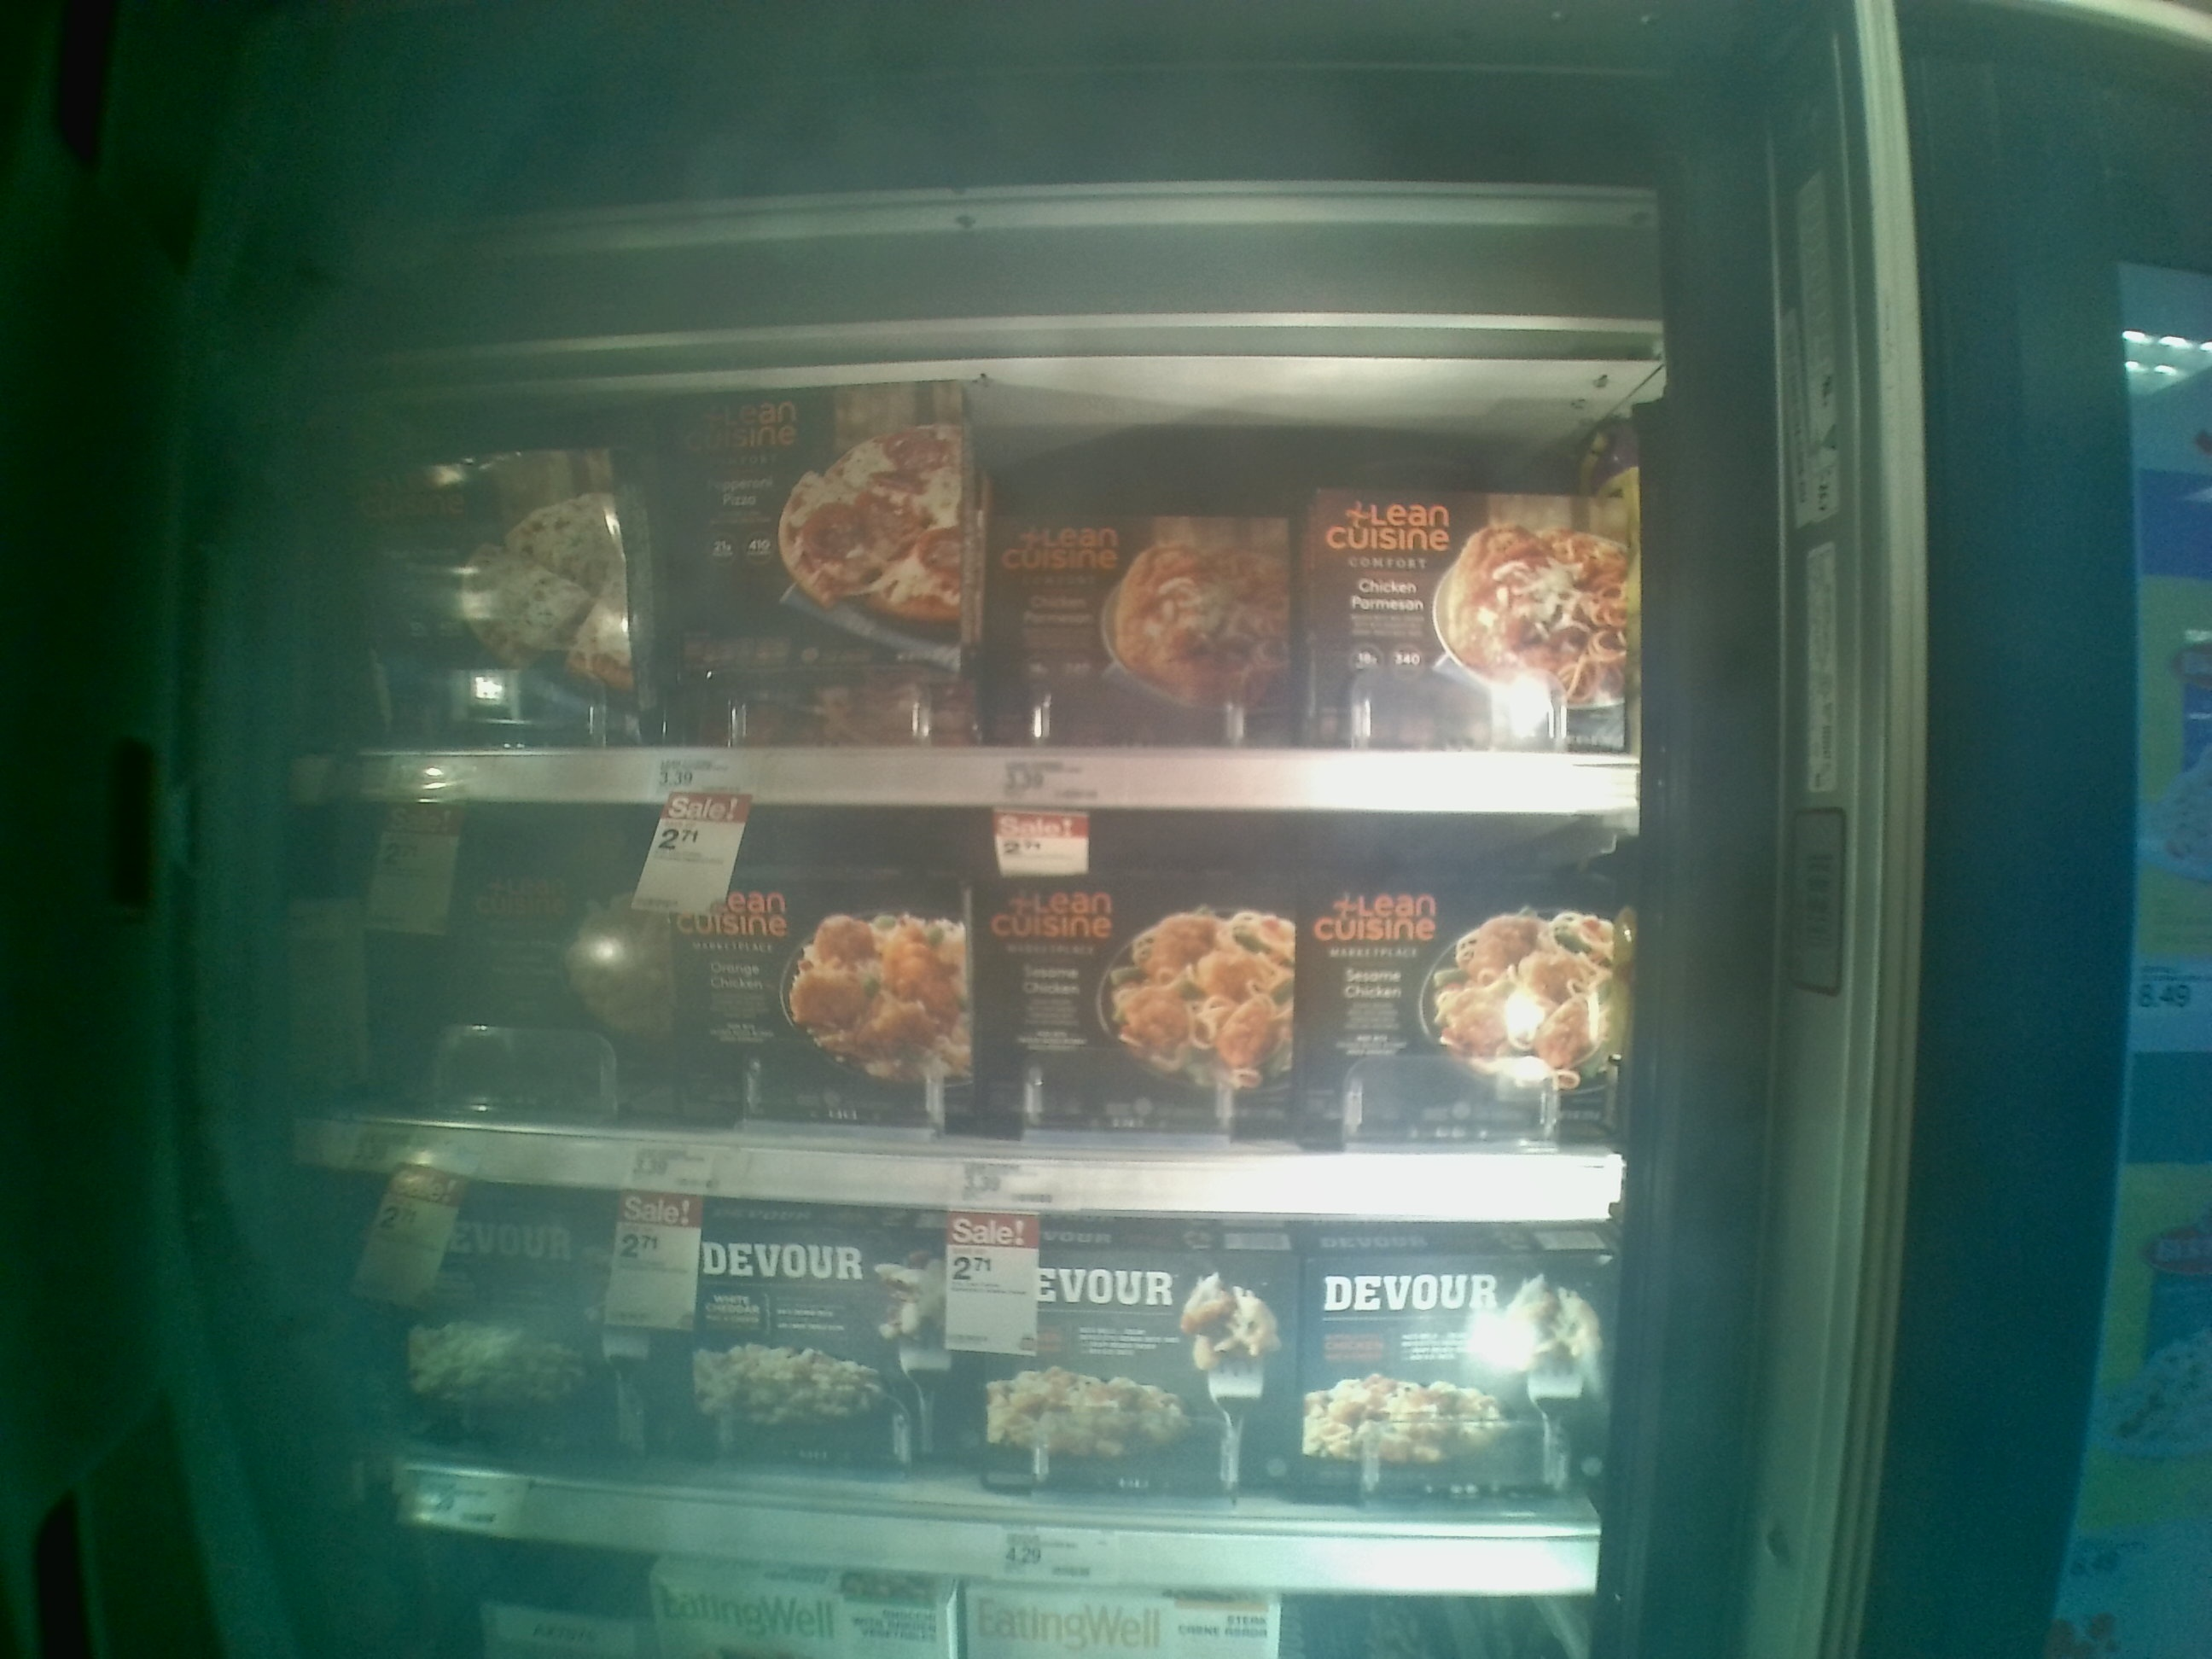shelf: (301, 382, 1651, 807), (308, 812, 1635, 1223), (331, 1183, 1609, 1601)
